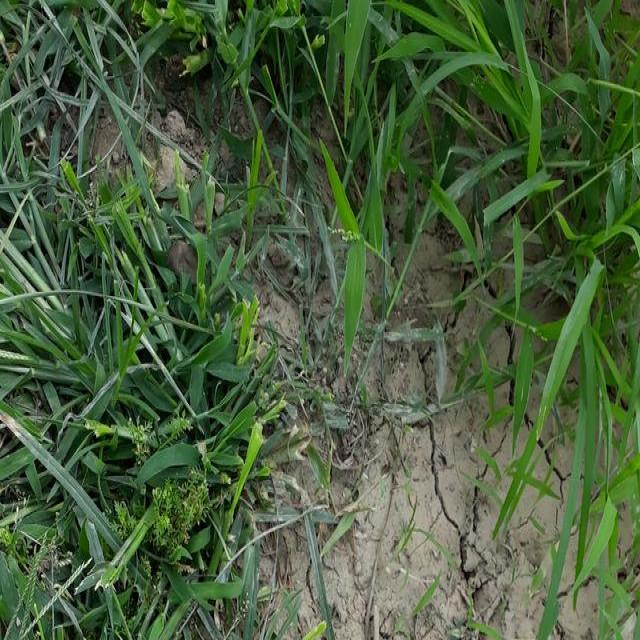weed: (6, 134, 287, 630), (355, 3, 640, 261)
